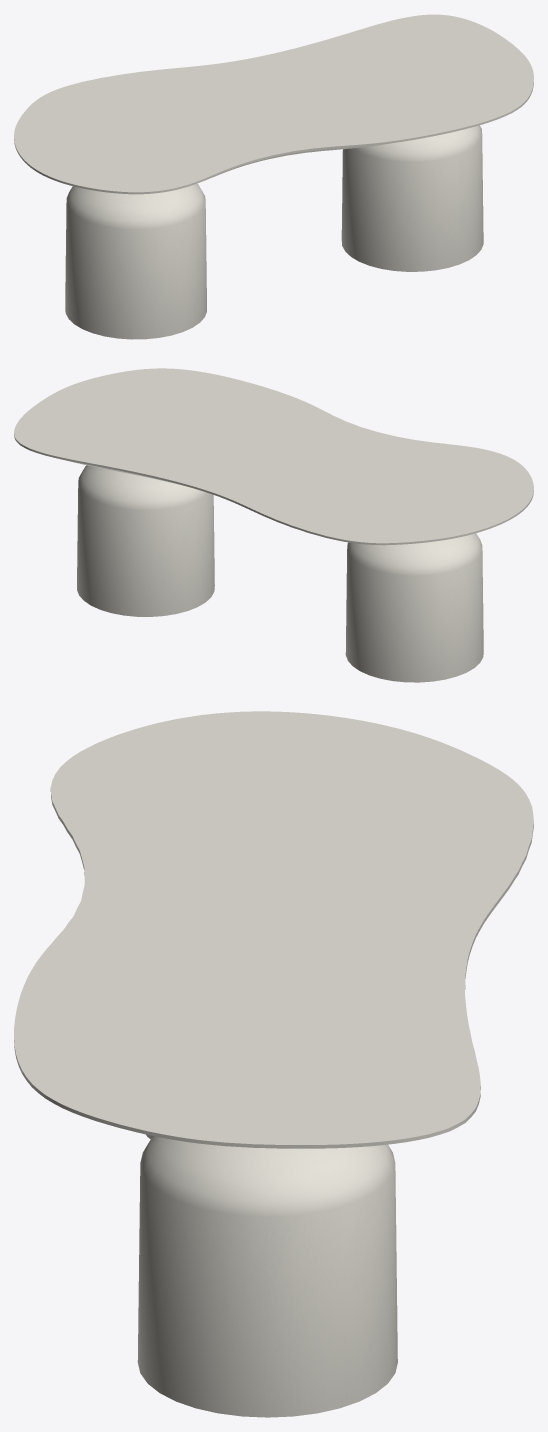
The model's file is pale_wave_facet_tornado.glb.
3 renders of one model, top to bottom at view 1: azimuth 30°, elevation 25°; view 2: azimuth 150°, elevation 25°; view 3: azimuth 270°, elevation 25°, orthographic. The views are drawn at different scales.
Visible parts, largest first — view 1: facet_wave, tornado; view 2: facet_wave, tornado; view 3: facet_wave, tornado.
Part boxes in pixels (left/top/right/bottom): facet_wave: left=14, top=14, right=533, bottom=194; tornado: left=65, top=125, right=483, bottom=339; facet_wave: left=14, top=368, right=533, bottom=545; tornado: left=77, top=465, right=483, bottom=682; facet_wave: left=14, top=711, right=533, bottom=1148; tornado: left=137, top=1134, right=397, bottom=1417.
Size of the model in its own units: 7.5 by 2.5 by 3.8.
Materials: 1 (1 with a texture image).
